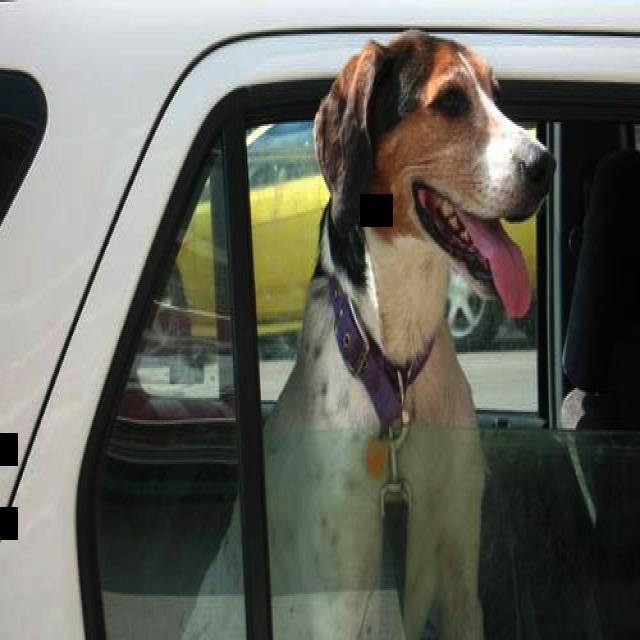adult_dog: (260, 29, 556, 640)
